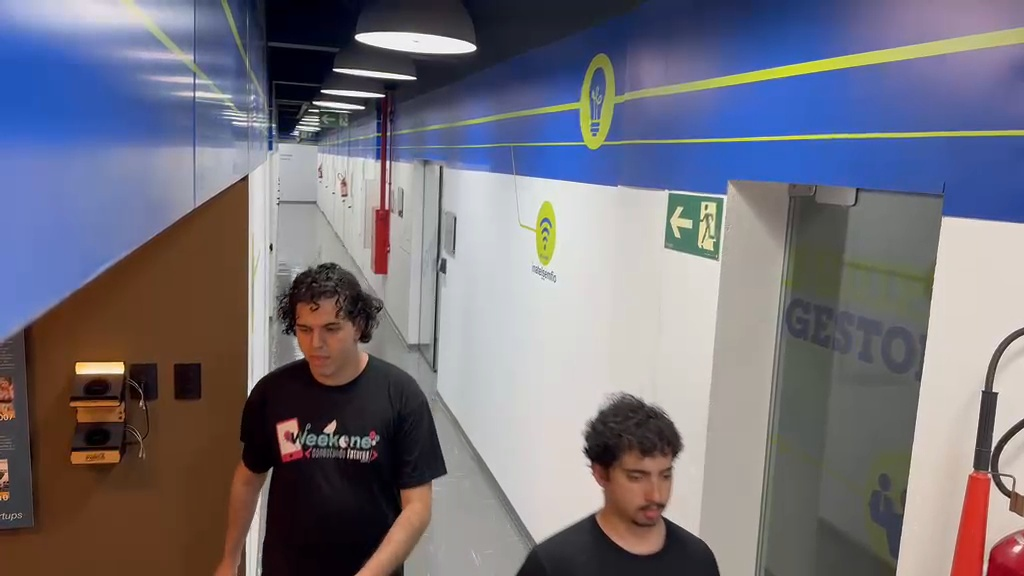person: (213, 261, 447, 573), (517, 392, 720, 575)
